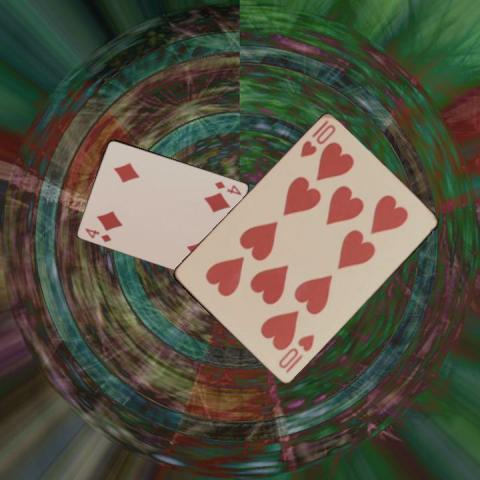10h: (275, 332, 316, 376), (297, 117, 337, 160)
4d: (212, 178, 243, 197), (82, 225, 113, 243)
